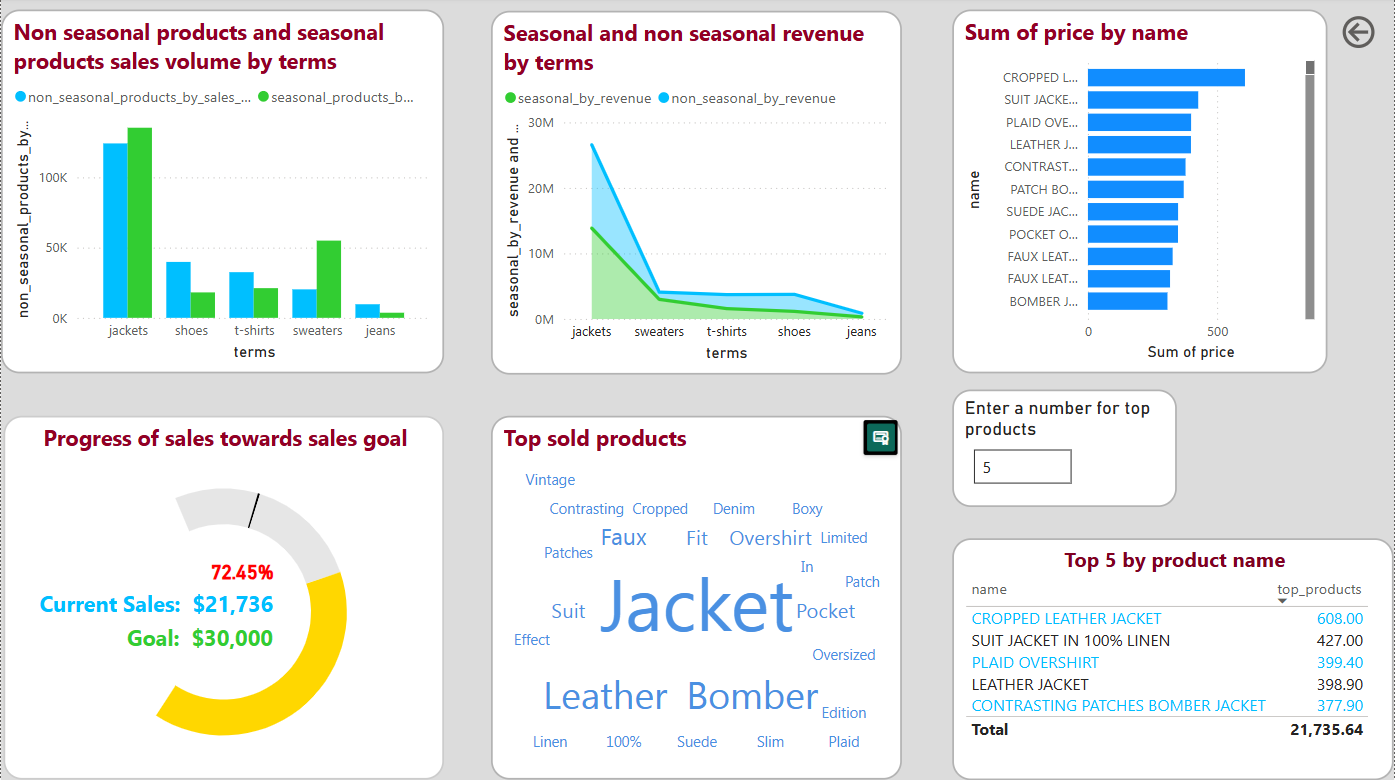

This screenshot's page, from the dashboard's own definition file:
{"tool":"powerbi","page":{"name":"Support Page","canvas":[1280,720],"ordinal":1},"visuals":[{"type":"donutChart","title":"Progress of sales towards sales goal","fields":{"Y":["zara.empty_space","zara.padding","zara.target_line","zara.% of target_sales","zara.% of sales_progres"]},"box":[2.5,384.3,404.7,334.7],"z":0,"group":"g1"},{"type":"clusteredBarChart","fields":{"Category":["zara.name"],"Y":["Sum(zara.price)"]},"box":[874.3,11.5,344.9,334.7],"z":0},{"type":"actionButton","box":[1228.1,12.7,52.2,39.5],"z":1000},{"type":"card","fields":{"Values":["zara.% of sales_progres"]},"box":[169.2,512.8,105.6,30.5],"z":1000,"group":"g1"},{"type":"card","fields":{"Values":["zara.sales_progress_text"]},"box":[19.6,541.7,246.9,34.4],"z":2000,"group":"g1"},{"type":"card","fields":{"Values":["zara.target_sales_text"]},"box":[99.8,572.2,165.4,34.4],"z":3000,"group":"g1"},{"type":"group","id":"g1","title":"Group 1","box":[2.5,384.3,404.7,334.7],"z":3000},{"type":"tableEx","fields":{"Values":["zara.name","zara.top_products"]},"box":[874.3,497.6,406,222.7],"z":4000},{"type":"slicer","title":"Enter a number for top products","fields":{"Values":["Parameter.Parameter"]},"box":[874.3,360.2,206.2,108.2],"z":5000},{"type":"clusteredColumnChart","title":"Non seasonal products and seasonal products sales volume by terms","fields":{"Category":["zara.terms"],"Y":["zara.non_seasonal_products_by_sales_volume","zara.seasonal_products_by_sales_volume"]},"box":[0,11.2,407.2,334.7],"z":6001},{"type":"stackedAreaChart","title":"Seasonal and non seasonal revenue by terms","fields":{"Category":["zara.terms"],"Y":["zara.seasonal_by_revenue","zara.non_seasonal_by_revenue"]},"box":[450.5,12.4,378,334.7],"z":6002},{"type":"WordCloud5550983e166911eebe560242ac120002","title":"Top sold products","fields":{"categories":["zara.name"]},"box":[450.5,384.3,378,334.7],"z":6003}]}

Visuals, with their boxes in screenshot pixels (x1, y1, x2, y2), scaled from the page's 1280x720 canvas onto the 1395x780 screenshot:
"Progress of sales towards sales goal" donutChart: bbox(3, 416, 444, 779)
clusteredBarChart - zara.name x Sum(zara.price): bbox(953, 12, 1329, 375)
actionButton: bbox(1338, 14, 1394, 57)
card - zara.% of sales_progres: bbox(184, 556, 299, 589)
card - zara.sales_progress_text: bbox(21, 587, 290, 624)
card - zara.target_sales_text: bbox(109, 620, 289, 657)
"Group 1" group: bbox(3, 416, 444, 779)
tableEx - zara.name x zara.top_products: bbox(953, 539, 1394, 779)
"Enter a number for top products" slicer: bbox(953, 390, 1178, 507)
"Non seasonal products and seasonal products sales volume by terms" clusteredColumnChart: bbox(0, 12, 444, 375)
"Seasonal and non seasonal revenue by terms" stackedAreaChart: bbox(491, 13, 903, 376)
"Top sold products" WordCloud5550983e166911eebe560242ac120002: bbox(491, 416, 903, 779)
